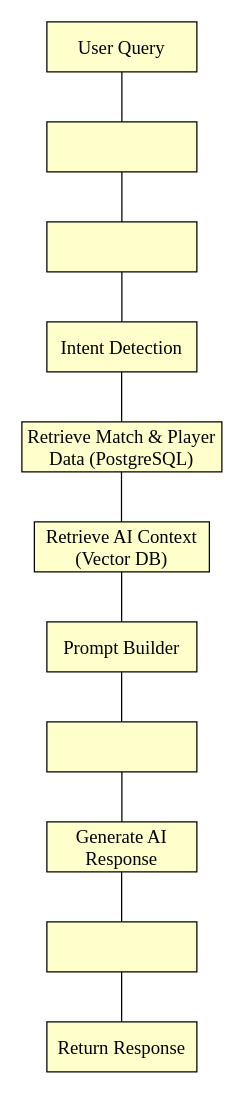
This 244x1094 diagram has some shape labels left out. The shapes that lost their labels are listed below. From the top down, each one's box as (x1, y1, x2, y2) in pixels, then its label:
(46, 121, 197, 172): Input Validation
(46, 221, 197, 272): Data Cleaning
(46, 721, 197, 772): LLM Gateway
(46, 921, 197, 972): Response Validation
